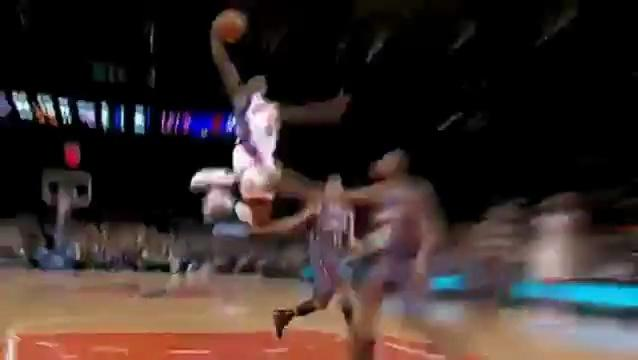Backboard: (41, 170, 94, 208)
Ball: (214, 10, 248, 40)
Person: (188, 38, 344, 226), (348, 150, 446, 360), (274, 173, 353, 356)
